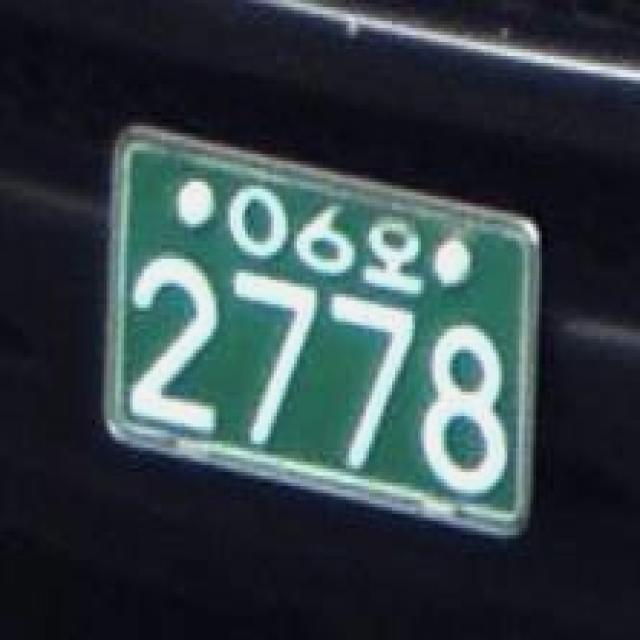illegal_plate: (90, 110, 554, 559)
